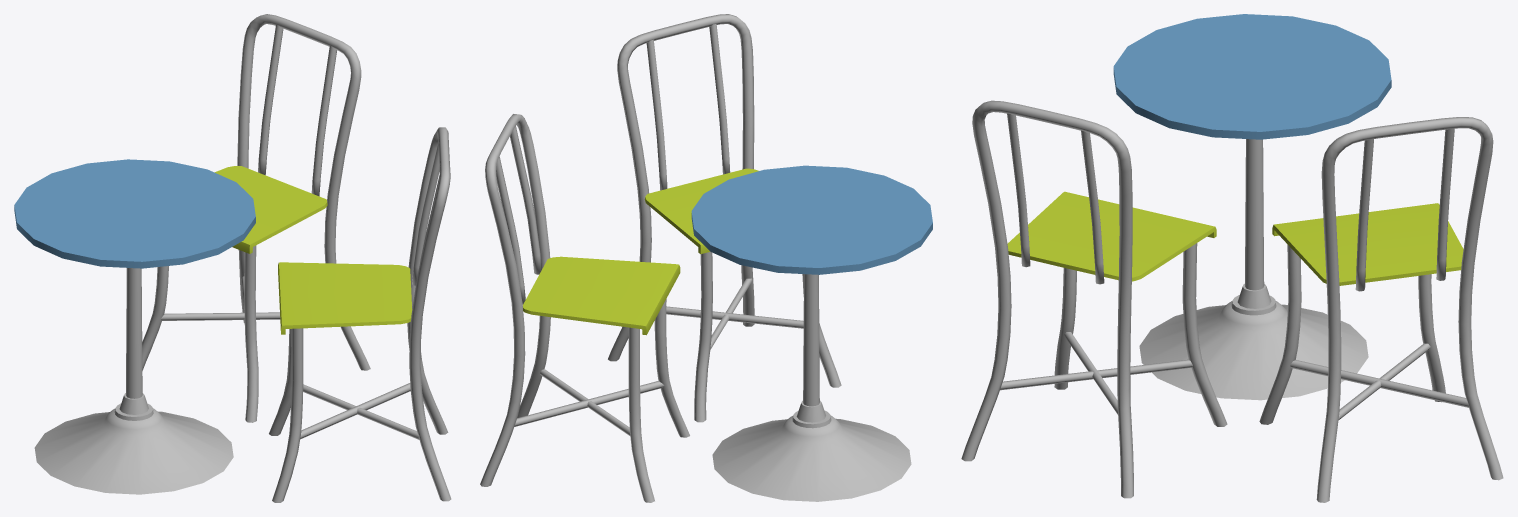
File: Table_2.fbx
3 renders of one model, left to right at view 1: azimuth 30°, elevation 25°; view 2: azimuth 150°, elevation 25°; view 3: azimuth 270°, elevation 25°, orthographic. The views are drawn at different scales.
Parts seen in each view (by area): view 1: Table_B; view 2: Table_B; view 3: Table_B.
Part boxes in pixels (<box>): Table_B: <box>14,14,451,502</box>; Table_B: <box>480,14,932,502</box>; Table_B: <box>961,14,1503,502</box>.
Size of the model in its own units: 28.32 by 23.17 by 31.17.
